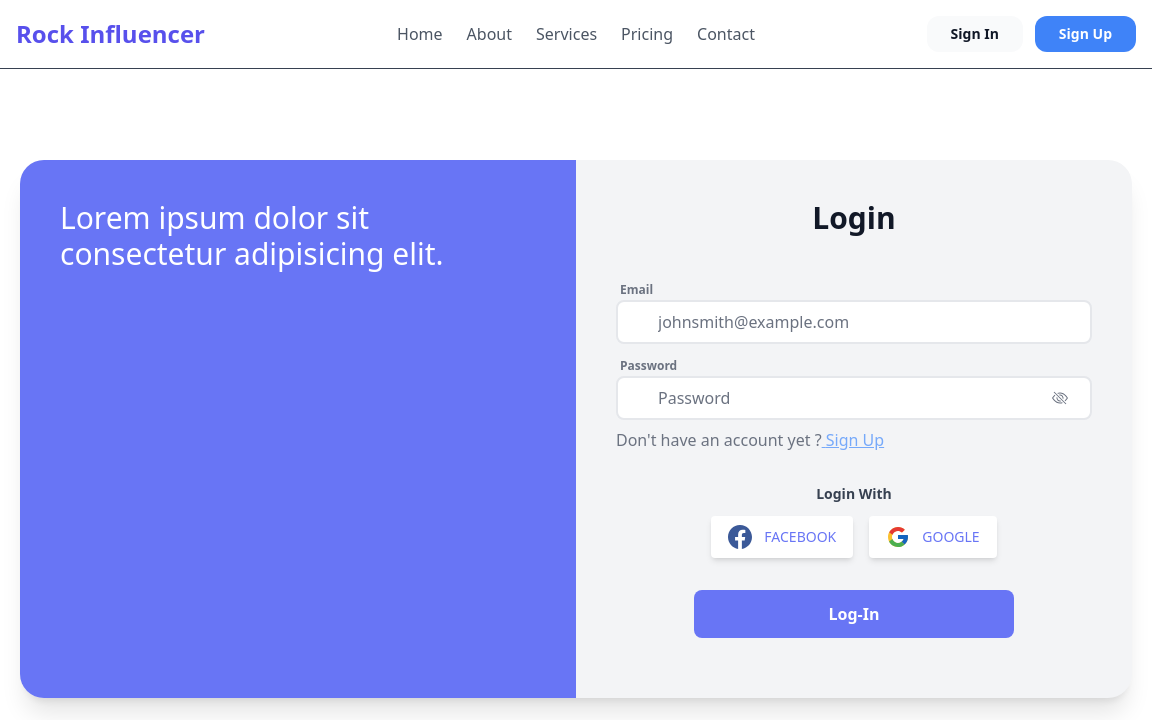
LoginForm › should display an error message for an invalid email
Note: Type an invalid email address into the input field
Type "invalidemail" into the field named "email" at x=854, y=322, box [616,300,1092,344]
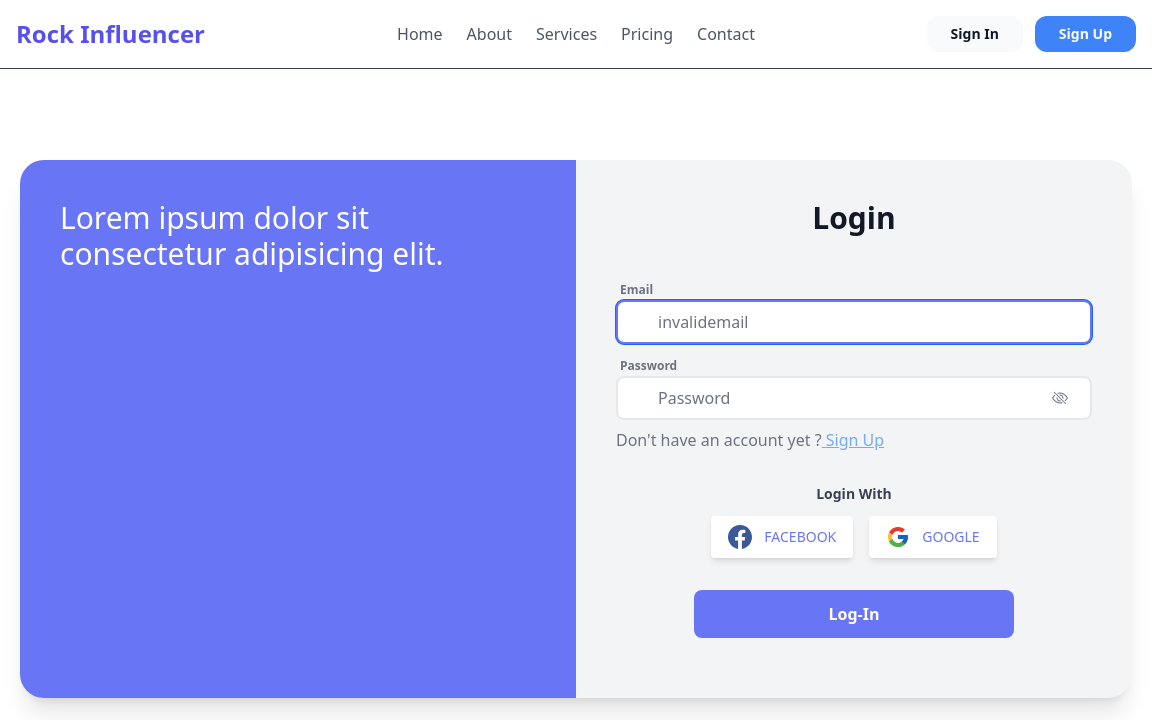
Type "aaaaa" into the password field named "password" at x=854, y=398, box [616,376,1092,420]
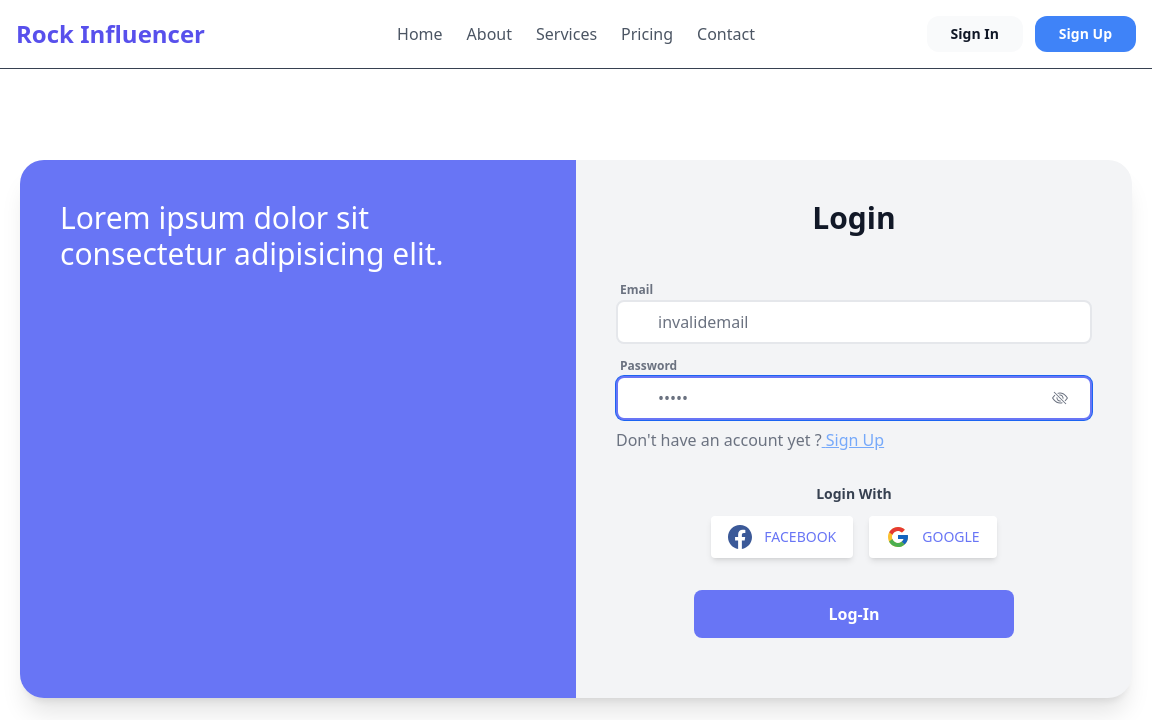
Click the submit button at x=854, y=614, box [694,590,1014,638]
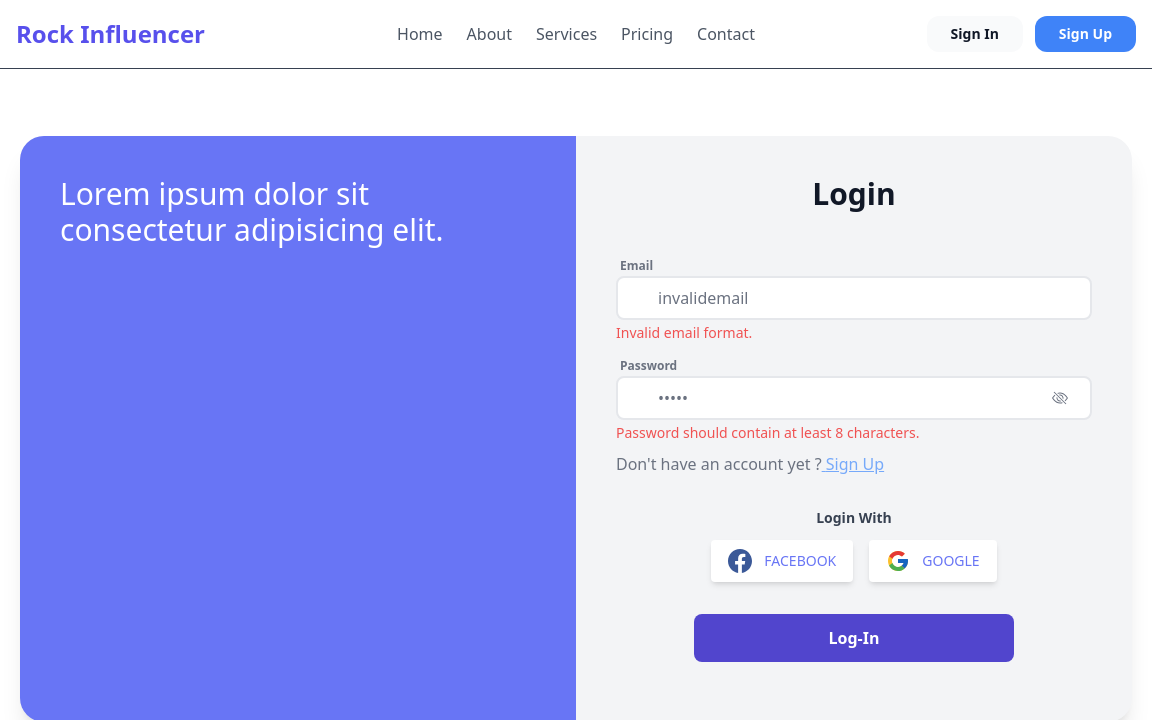
Expected: the text "Invalid email" is shown, [616,323,752,342]
